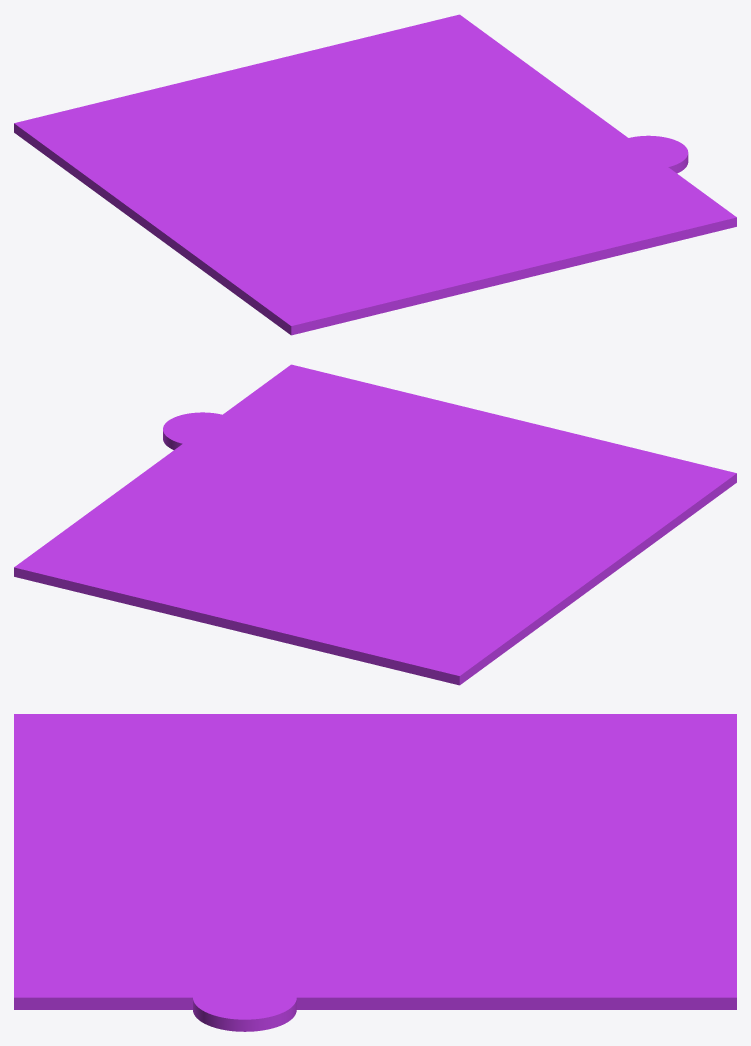
The model's file is suelo04.gltf.
3 renders of one model, top to bottom at view 1: azimuth 30°, elevation 25°; view 2: azimuth 150°, elevation 25°; view 3: azimuth 270°, elevation 25°, orthographic. The views are drawn at different scales.
Parts seen in each view (by area): view 1: Object_17; view 2: Object_17; view 3: Object_17.
Boxes of the visible parts, <box> form: Object_17: <box>14,14,736,335</box>; Object_17: <box>14,364,736,685</box>; Object_17: <box>14,714,736,1031</box>.
Bounding box in the file's own units: 16.16 × 0.3 × 16.16.
